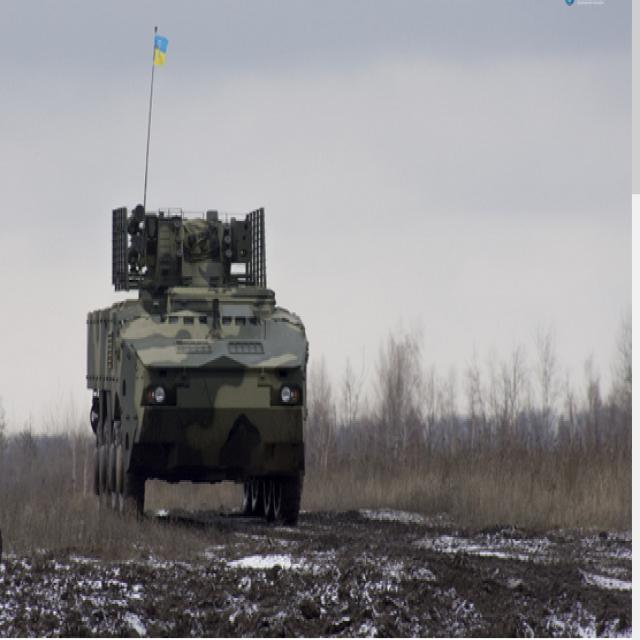MIL_APC: (78, 199, 330, 526)
